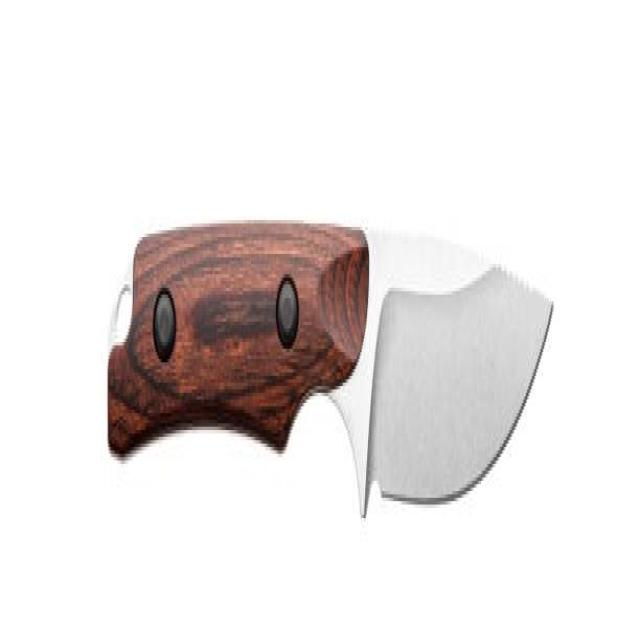knife: (102, 201, 558, 532)
